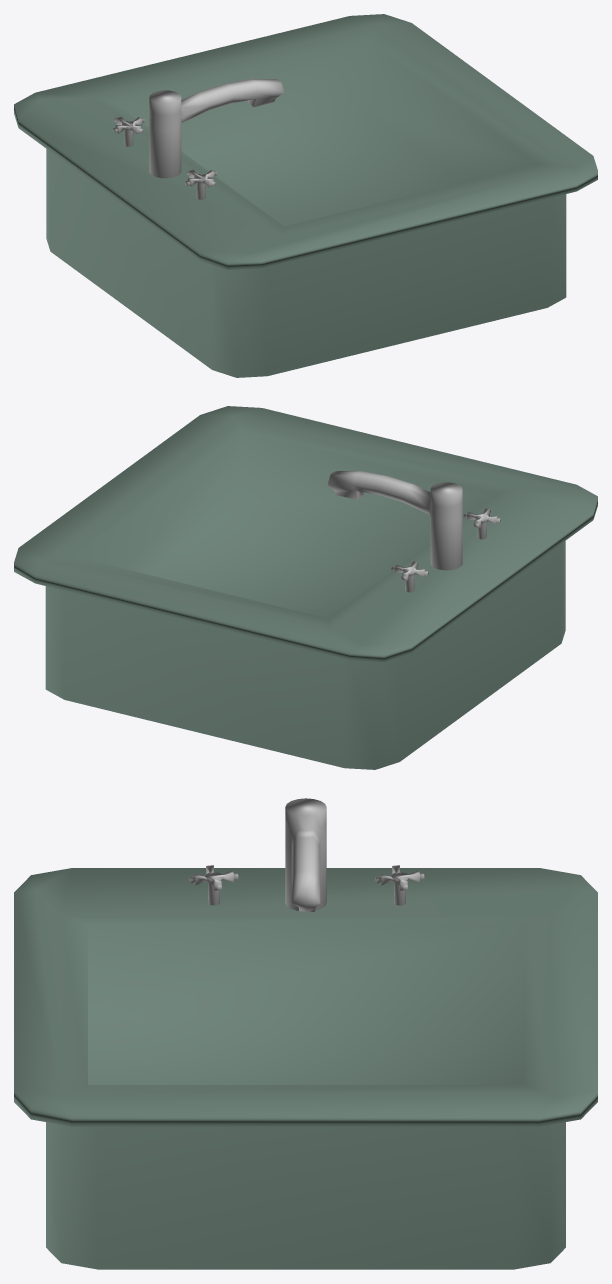
The model's file is Sink.fbx.
The picture shows the model from 3 angles, top to bottom: view 1: azimuth 30°, elevation 25°; view 2: azimuth 150°, elevation 25°; view 3: azimuth 270°, elevation 25°; orthographic projection. The views are drawn at different scales.
Visible parts, largest first — view 1: Sink, Cylinder, Cylinder.002, Cylinder.001; view 2: Sink, Cylinder, Cylinder.001, Cylinder.002; view 3: Sink, Cylinder, Cylinder.001, Cylinder.002.
Boxes of the visible parts, left/top/right/bottom form: Sink: left=14, top=14, right=597, bottom=377; Cylinder: left=149, top=79, right=284, bottom=178; Cylinder.002: left=185, top=169, right=216, bottom=199; Cylinder.001: left=113, top=116, right=144, bottom=146; Sink: left=14, top=406, right=597, bottom=769; Cylinder: left=327, top=471, right=462, bottom=570; Cylinder.001: left=391, top=561, right=428, bottom=592; Cylinder.002: left=463, top=508, right=500, bottom=539; Sink: left=14, top=868, right=597, bottom=1269; Cylinder: left=285, top=798, right=326, bottom=911; Cylinder.001: left=375, top=865, right=424, bottom=905; Cylinder.002: left=189, top=865, right=238, bottom=905.
Bounding box in the file's own units: 225 × 112 × 225.
